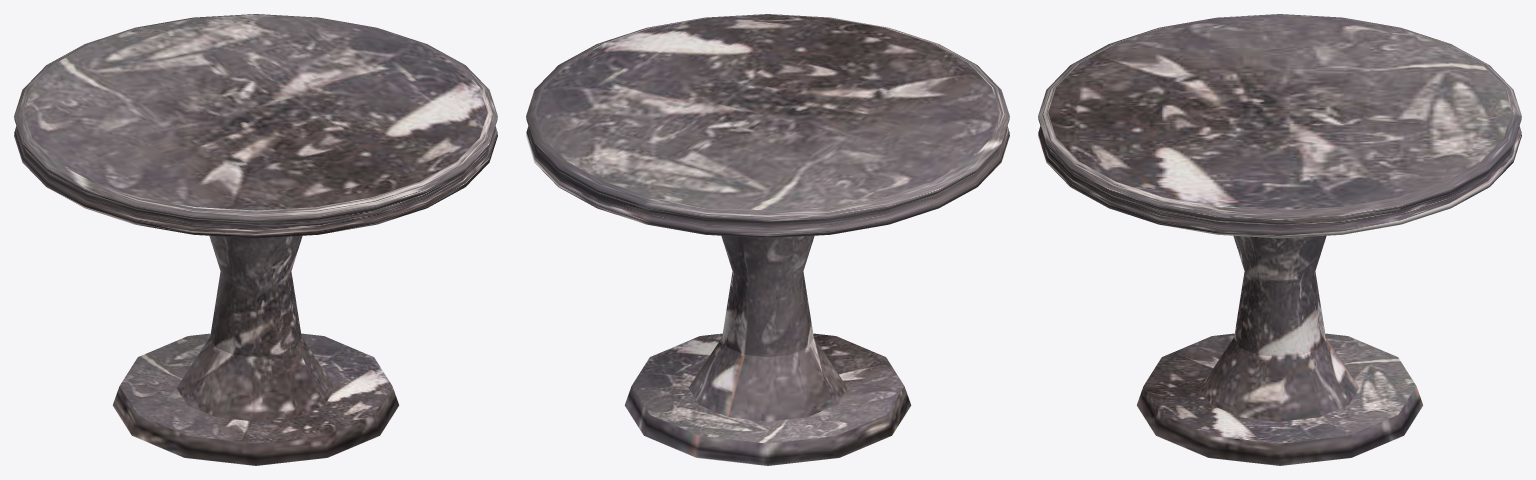
File: Table_Textured_Smooth.fbx
3 renders of one model, left to right at view 1: azimuth 30°, elevation 25°; view 2: azimuth 150°, elevation 25°; view 3: azimuth 270°, elevation 25°, orthographic.
Visible parts, largest first — view 1: pCylinder1; view 2: pCylinder1; view 3: pCylinder1.
Boxes of the visible parts, x1,y1,x2,y2 form: pCylinder1: (14,14,497,465); pCylinder1: (526,14,1009,465); pCylinder1: (1038,14,1521,465).
Bounding box in the file's own units: 37.13 × 24.89 × 37.13.
